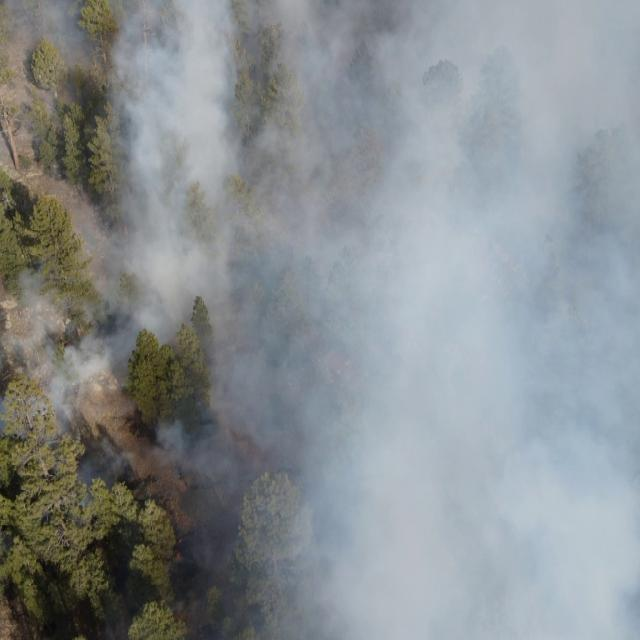fire: (173, 538, 184, 564), (123, 223, 129, 234)
smoke: (207, 0, 640, 640), (0, 0, 207, 162), (0, 266, 134, 515), (82, 164, 206, 340), (155, 420, 207, 640)
